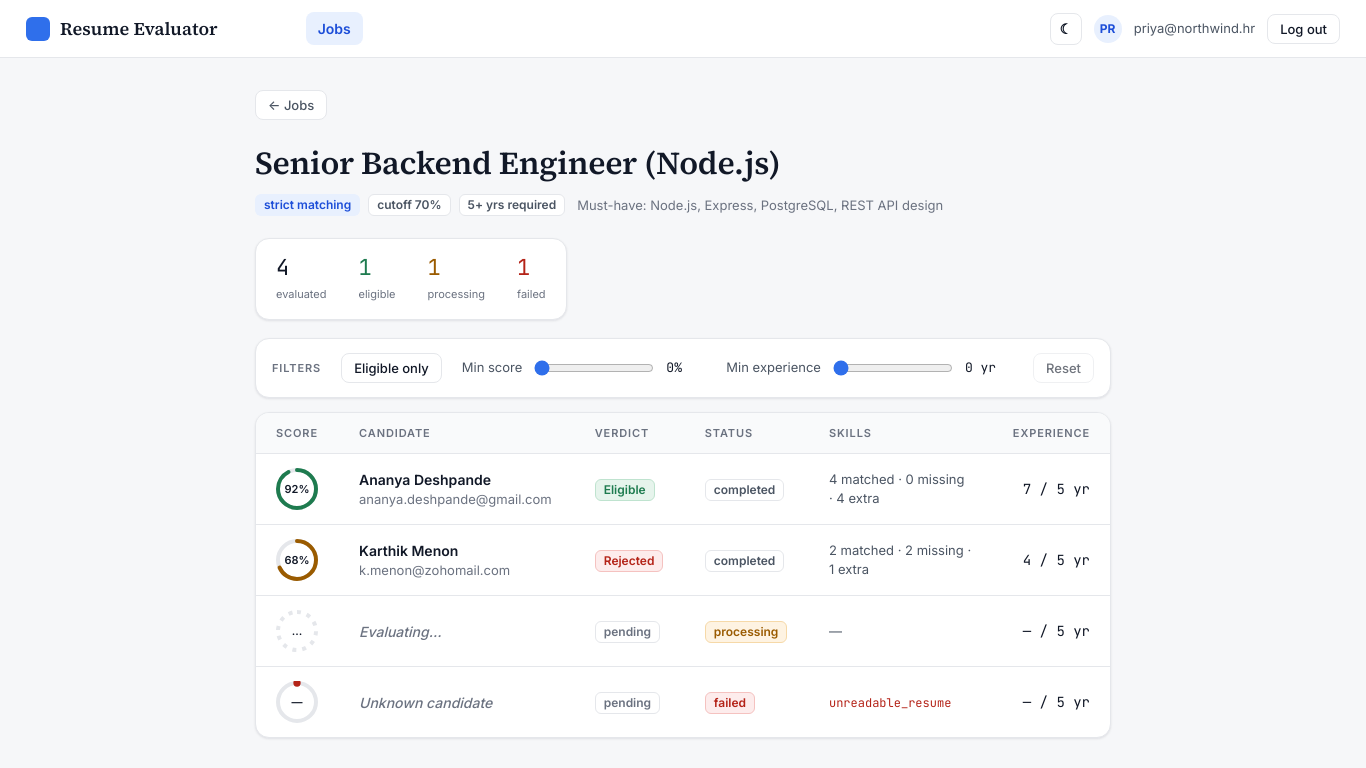
Test: Phase 6 - Job Candidates: filters › min score and min experience sliders send minPercentage / minExperience
Set the slider labelled "Min score 0%" to "60": (605, 368) [534,360,654,376]
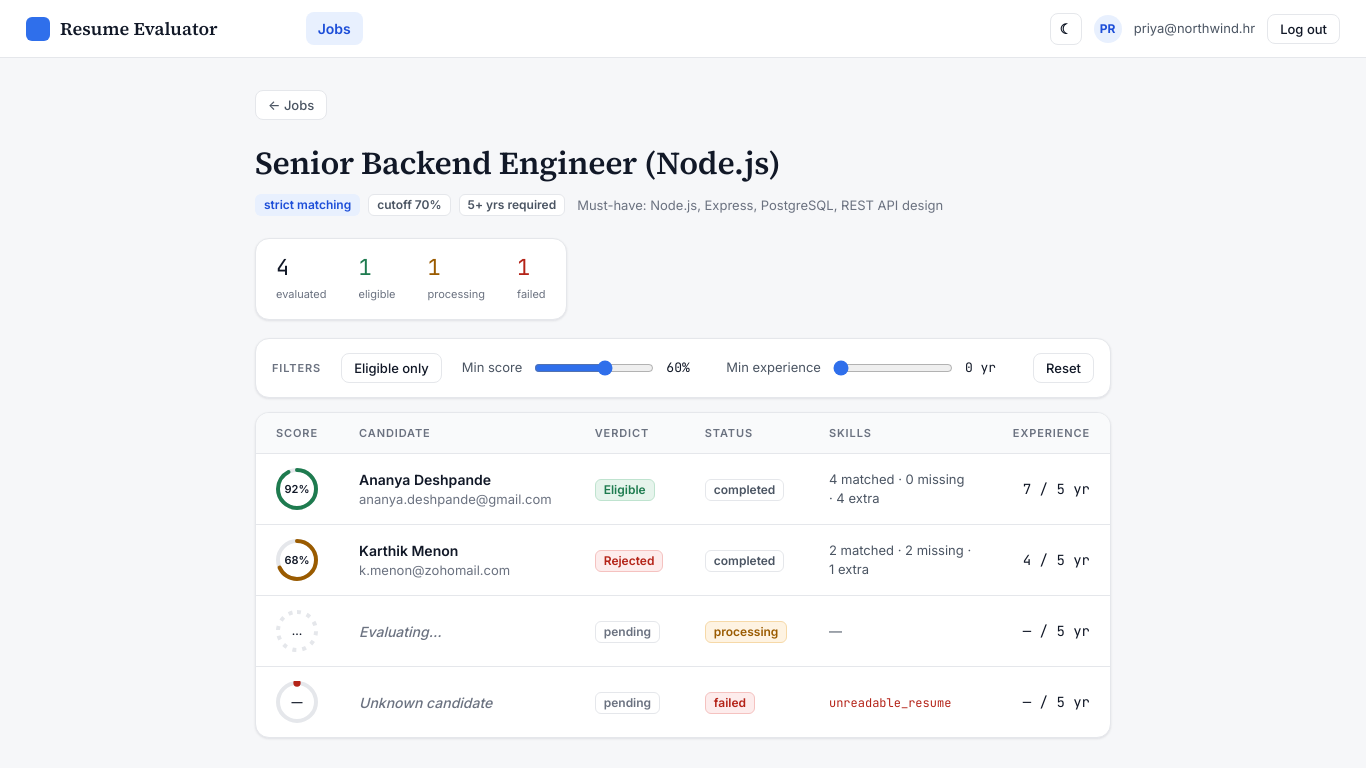
Set the slider labelled "Min experience 0 yr" to "5": (876, 368) [833,360,953,376]
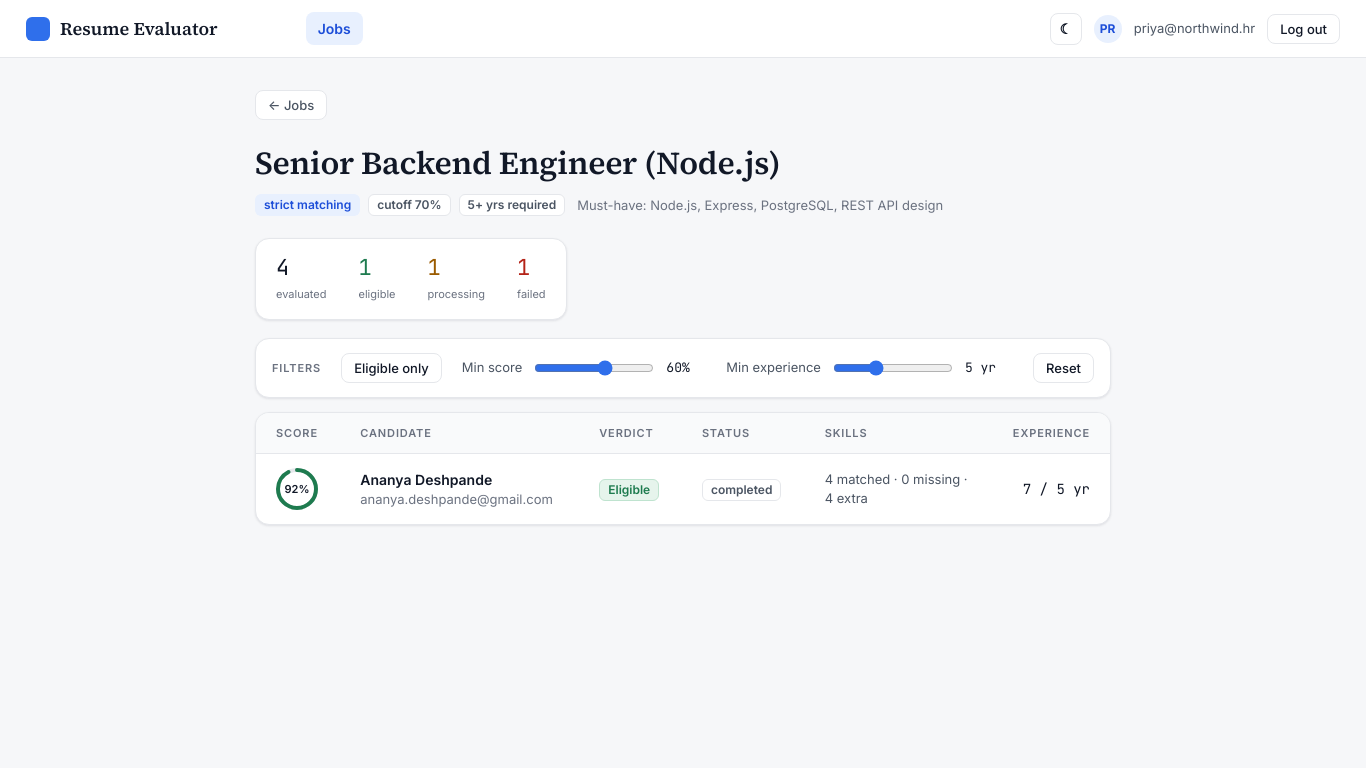
expect the text "60%" is shown: met, box [666,359,690,376]
expect the text "5 yr" is shown: met, box [965,359,996,376]
